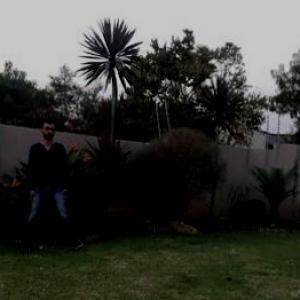follow: (28, 112, 68, 249)
